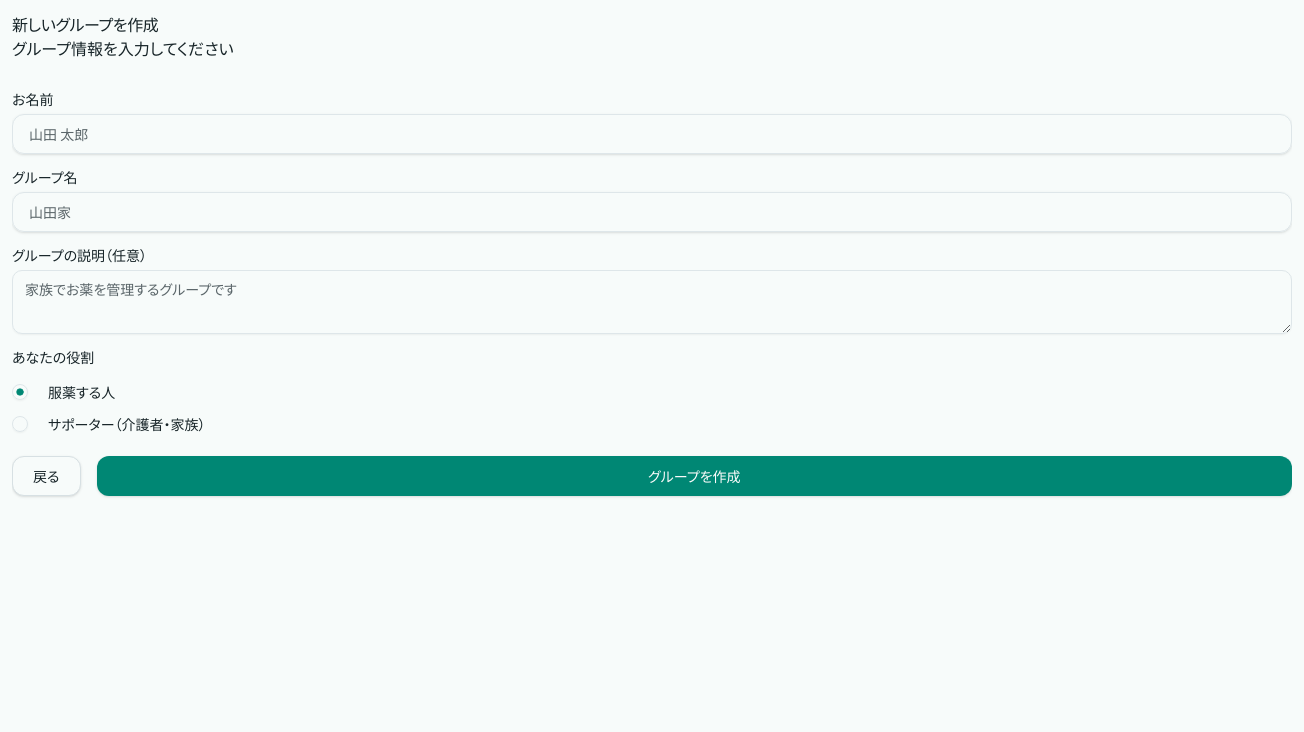
GroupCreationForm › グループ名が空の場合バリデーションエラー
In the field labelled "お名前": (652, 134) top-left (12, 114), bottom-right (1292, 154), type "テストユーザー"
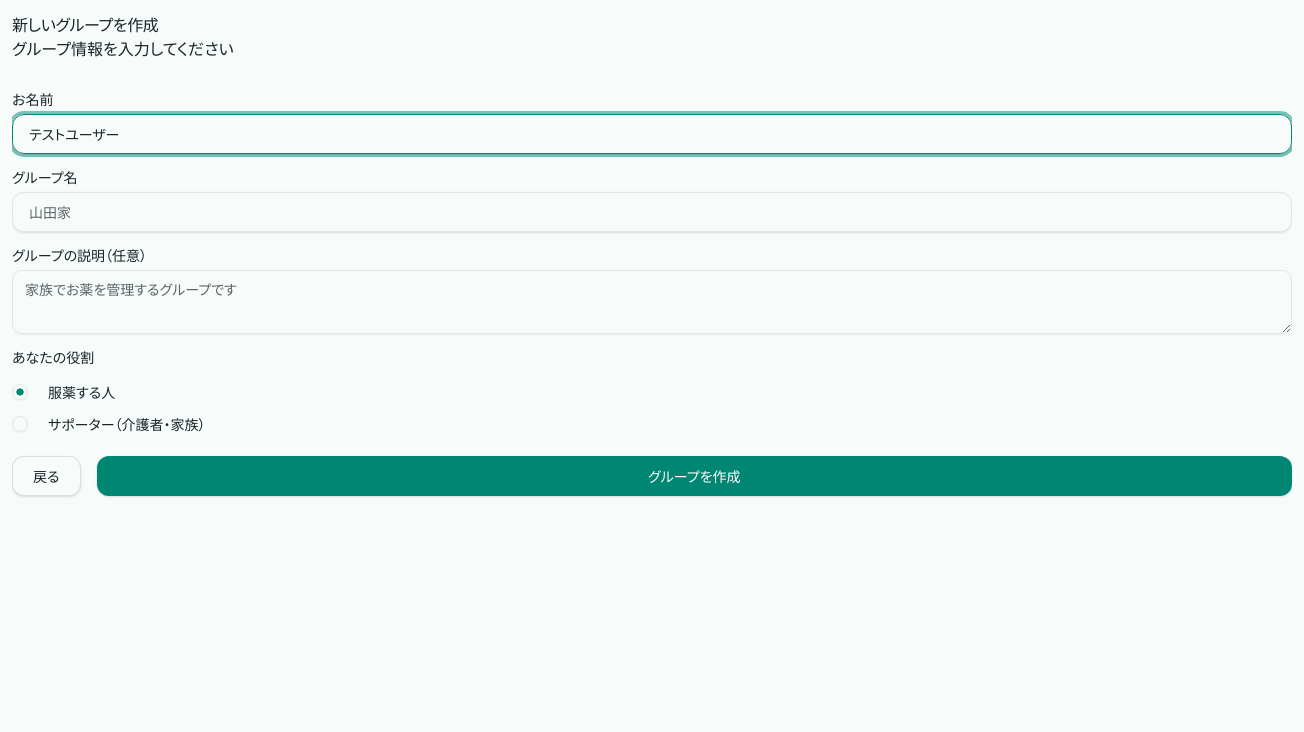
Click the button "グループを作成": (694, 476) top-left (96, 456), bottom-right (1292, 496)
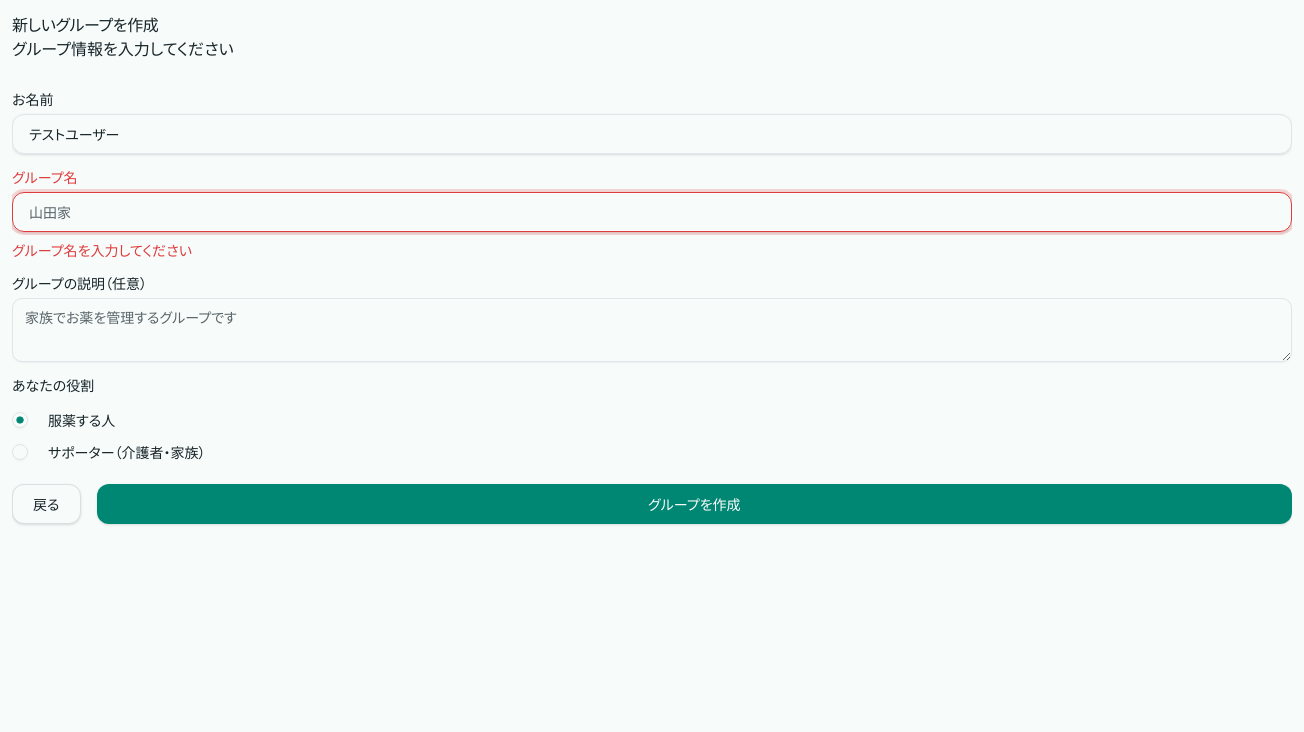
Check: the text "グループ名を入力してください" is shown, box top-left (12, 240), bottom-right (192, 260)
